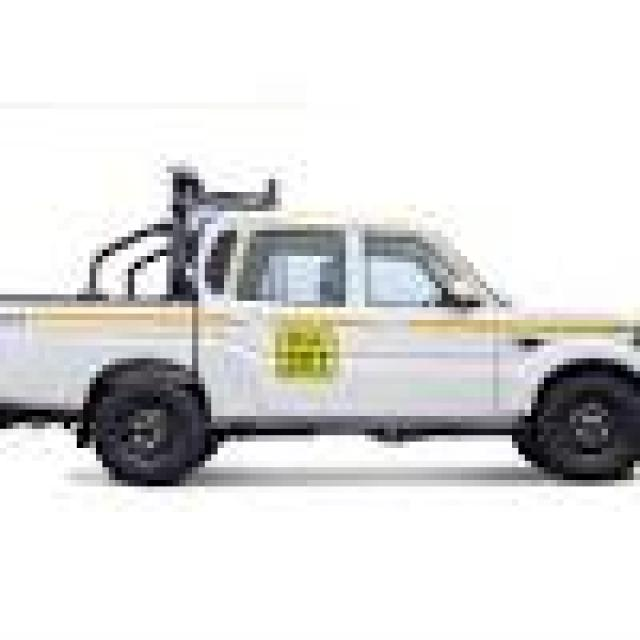light_vehicle: (58, 13, 612, 639)
